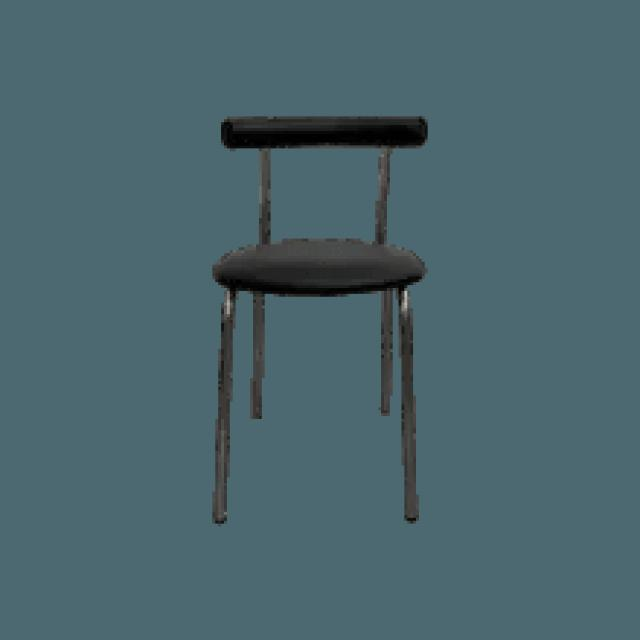chair: (201, 108, 430, 530), (212, 114, 428, 296)
